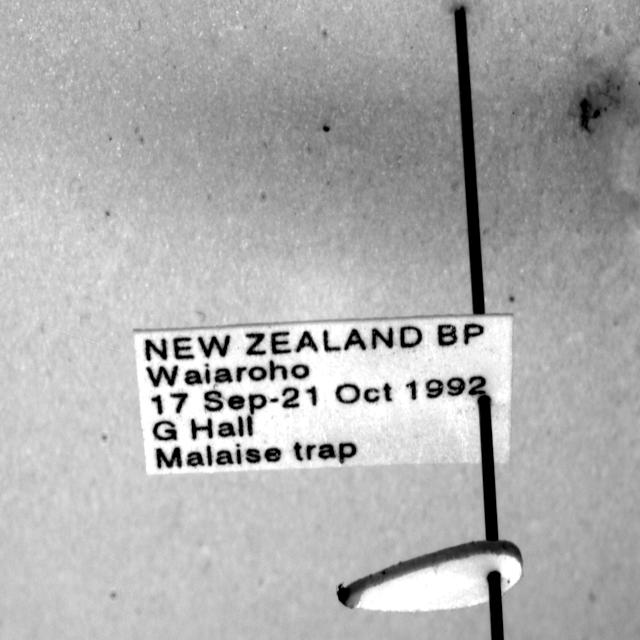typed_label: (134, 315, 512, 474)
